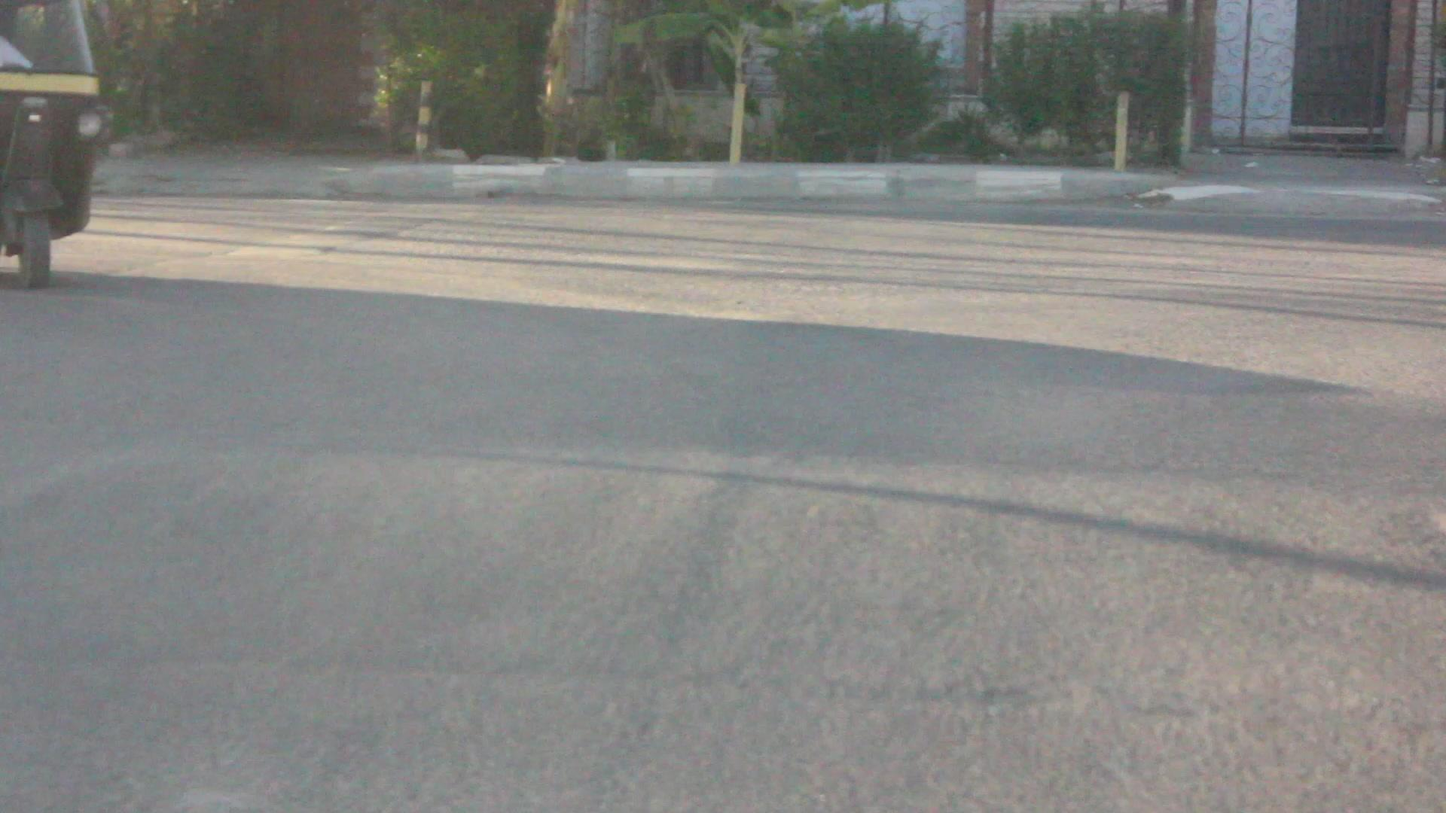Bump: (0, 448, 1446, 726)
